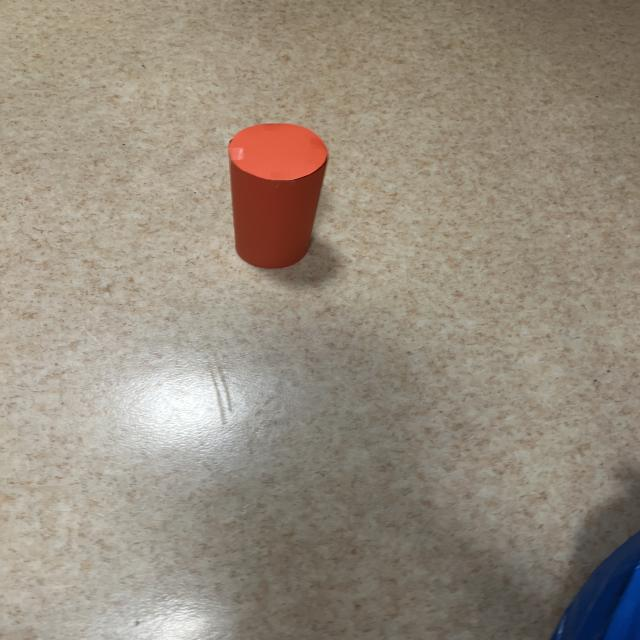przeszkoda: (228, 124, 328, 269)
